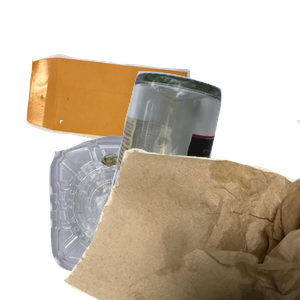glass: (109, 69, 300, 249)
paper: (23, 51, 206, 189)
plastic: (46, 130, 227, 300)
trash: (60, 120, 300, 300)
